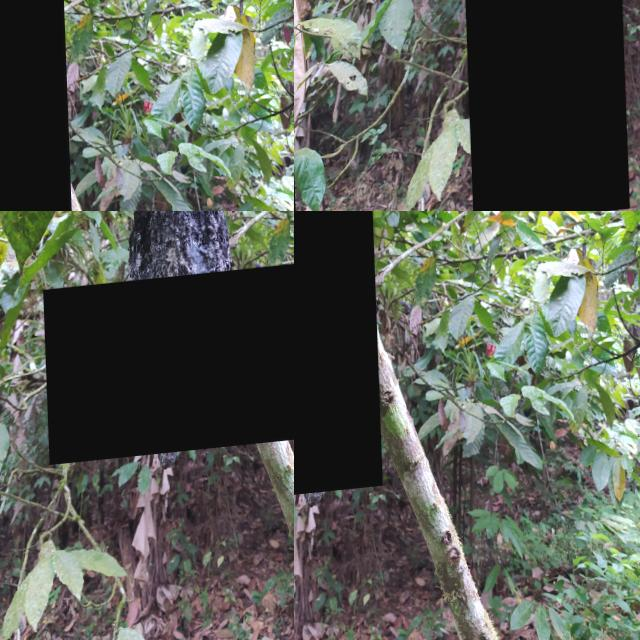Fitoftora: (455, 0, 625, 211), (294, 211, 379, 501)
Monilia: (41, 269, 294, 468), (0, 0, 71, 211)
